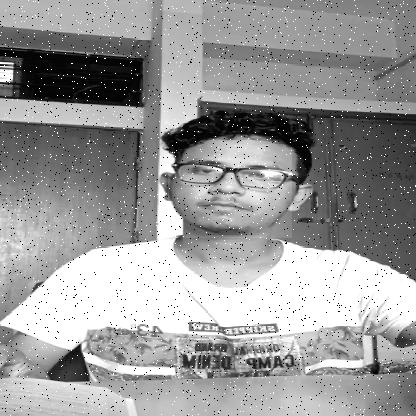Normal: (168, 140, 292, 238)
